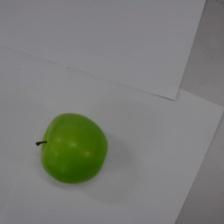green: (39, 112, 107, 184)
